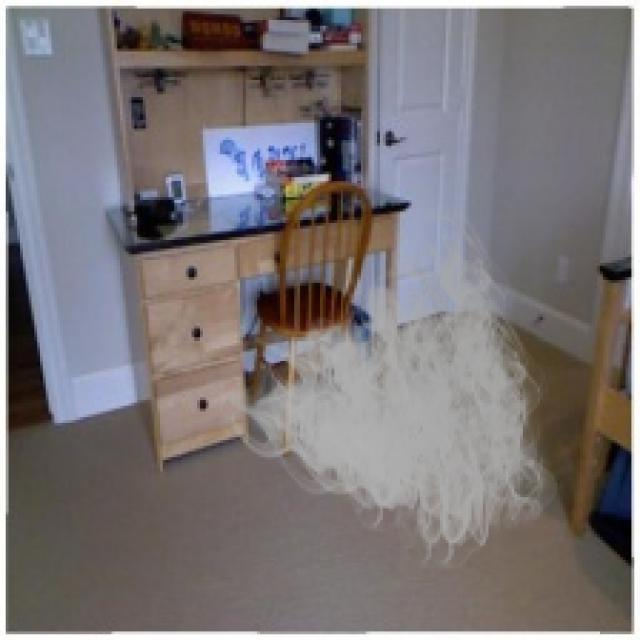Smoke: (220, 200, 566, 580)
